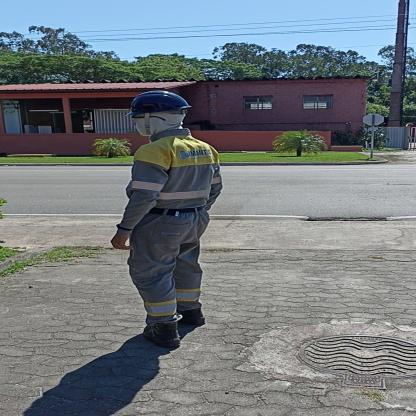Balaclava: (130, 111, 183, 139)
Capacete: (117, 89, 190, 112)
